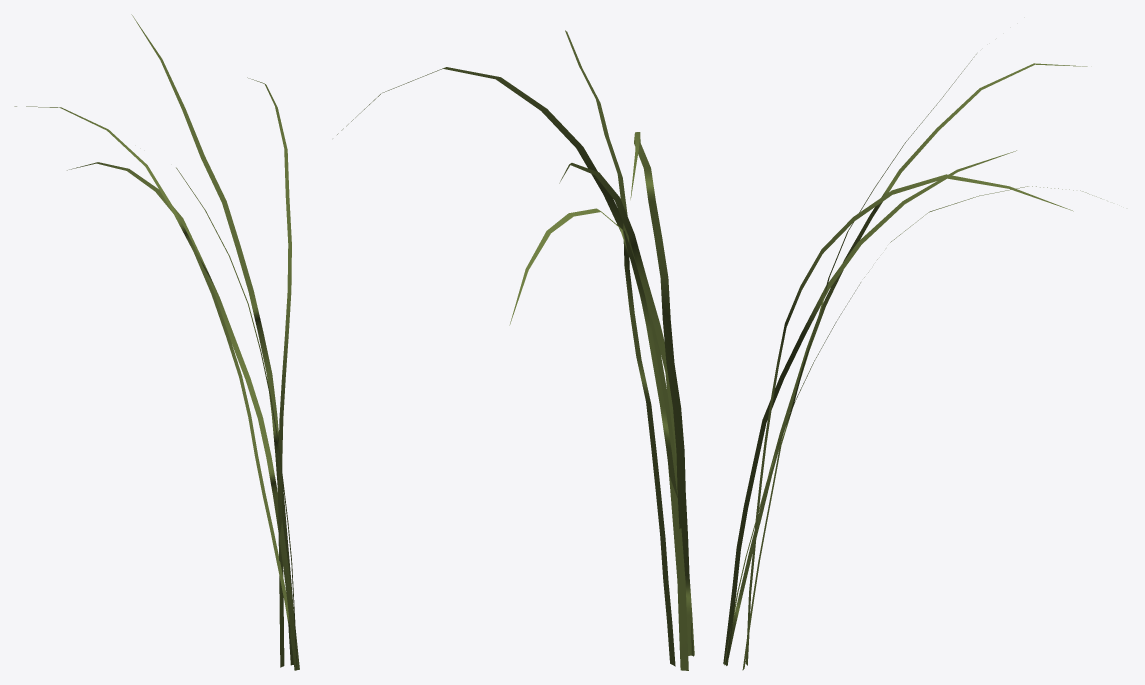
The model's file is capim_1_muito_longe.glb.
3 views of the same model, side by side, from view 1: azimuth 30°, elevation 25°; view 2: azimuth 150°, elevation 25°; view 3: azimuth 270°, elevation 25° (orthographic). The views are drawn at different scales.
Parts seen in each view (by area): view 1: capim_1_muito_longe; view 2: capim_1_muito_longe; view 3: capim_1_muito_longe.
Boxes of the visible parts, box(x1,y1,x2,y2) form: capim_1_muito_longe: box(14, 14, 299, 670); capim_1_muito_longe: box(337, 30, 694, 670); capim_1_muito_longe: box(723, 54, 1101, 670).
Bounding box in the file's own units: 0.4054 × 0.9816 × 0.5688.
